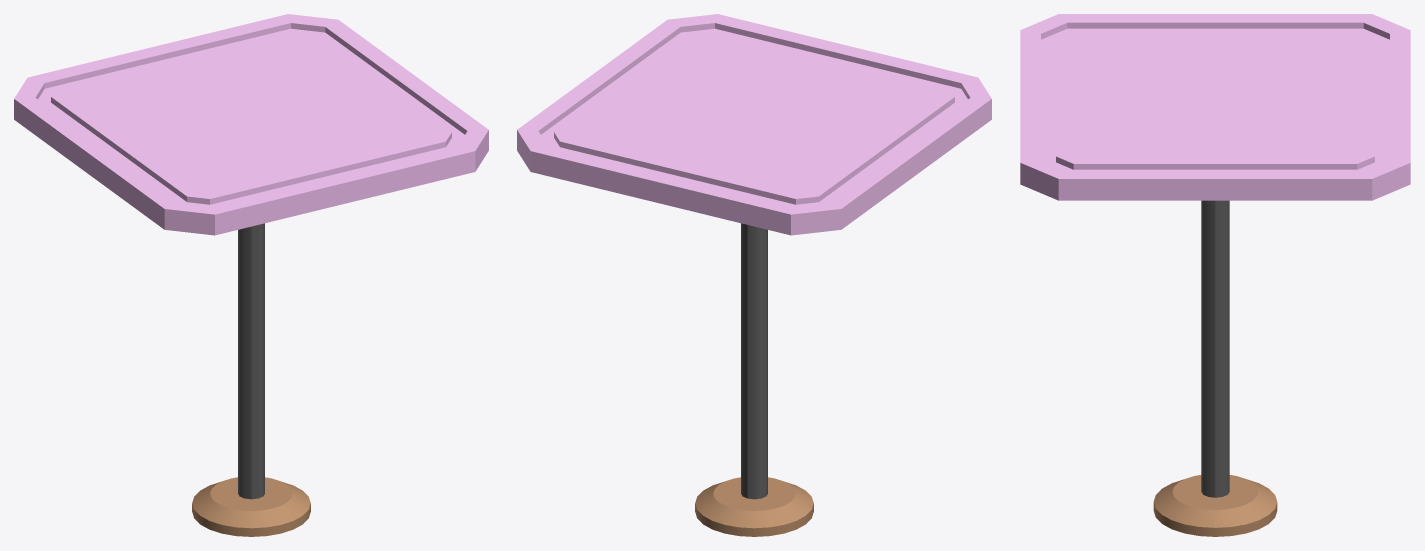
File: Furn_Table_2.002.fbx
The picture shows the model from 3 angles, left to right: view 1: azimuth 30°, elevation 25°; view 2: azimuth 150°, elevation 25°; view 3: azimuth 270°, elevation 25°; orthographic projection. The views are drawn at different scales.
Parts seen in each view (by area): view 1: Furn_Table_2.002; view 2: Furn_Table_2.002; view 3: Furn_Table_2.002.
Part boxes in pixels (x1,y1,x2,y2): Furn_Table_2.002: [14, 14, 488, 536]; Furn_Table_2.002: [517, 14, 991, 536]; Furn_Table_2.002: [1020, 14, 1410, 536].
Bounding box in the file's own units: 0.9659 × 1.13 × 0.9659.
